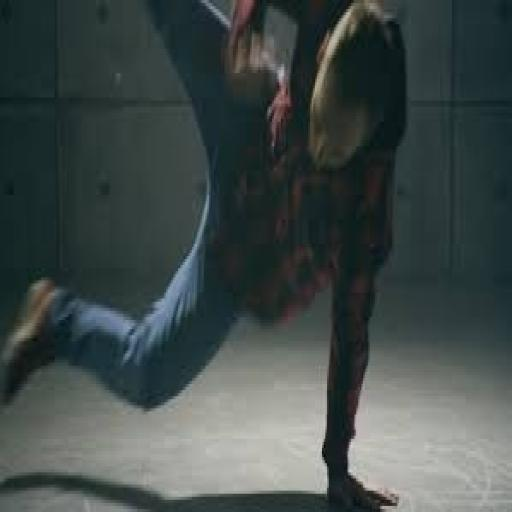dancing: (0, 0, 409, 509)
